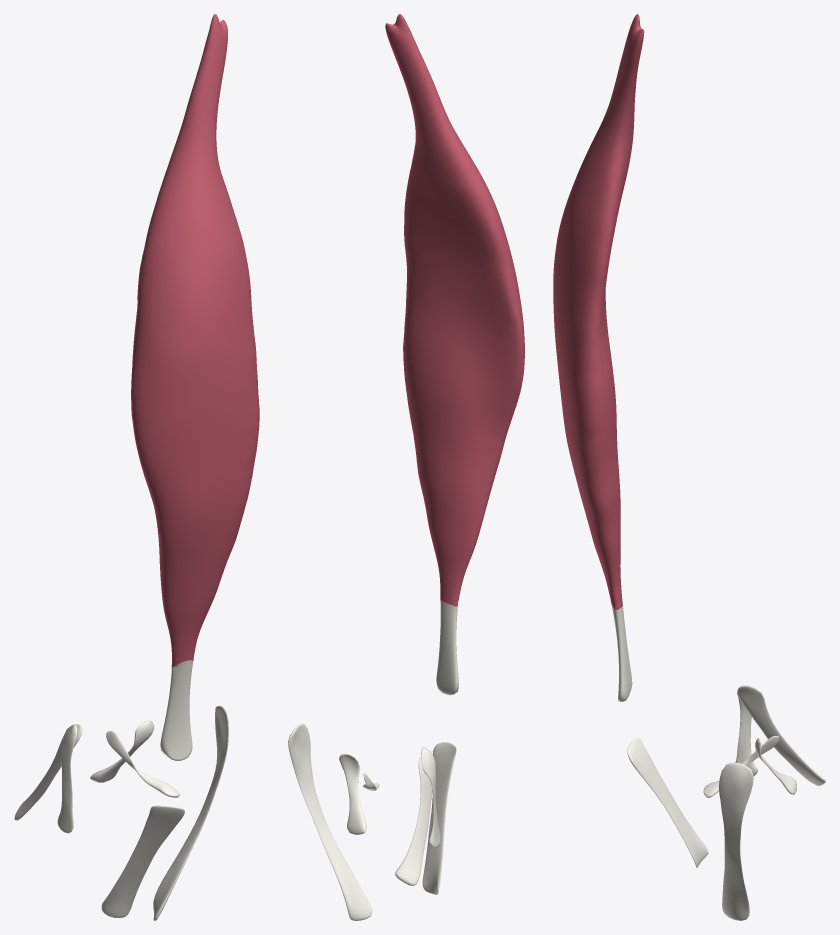
The model's file is 3d-vh-f-knee-r-landmark.glb.
3 renders of one model, left to right at view 1: azimuth 30°, elevation 25°; view 2: azimuth 150°, elevation 25°; view 3: azimuth 270°, elevation 25°, orthographic. The views are drawn at different scales.
Visible parts, largest first — view 1: VH_F_knee_R_landmark_rectus_femoris, VH_F_knee_R_landmark_ligaments; view 2: VH_F_knee_R_landmark_rectus_femoris, VH_F_knee_R_landmark_ligaments; view 3: VH_F_knee_R_landmark_rectus_femoris, VH_F_knee_R_landmark_ligaments.
Part boxes in pixels (<box>): VH_F_knee_R_landmark_rectus_femoris: <box>131,14,259,760</box>; VH_F_knee_R_landmark_ligaments: <box>14,705,228,920</box>; VH_F_knee_R_landmark_rectus_femoris: <box>385,14,524,695</box>; VH_F_knee_R_landmark_ligaments: <box>288,723,456,920</box>; VH_F_knee_R_landmark_rectus_femoris: <box>553,14,644,701</box>; VH_F_knee_R_landmark_ligaments: <box>627,685,825,920</box>.
Bounding box in the file's own units: 0.0994 × 0.5199 × 0.1411.
